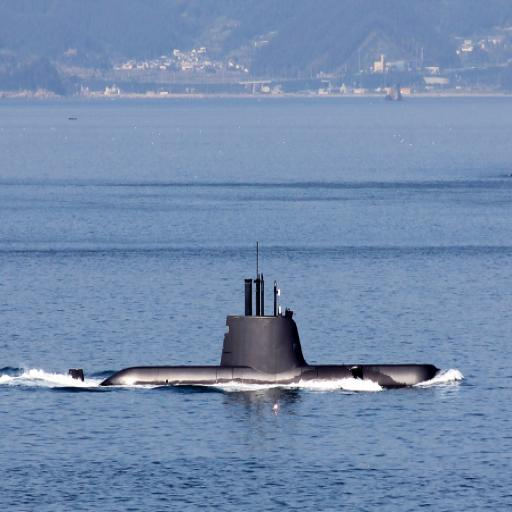submarine: (52, 316, 446, 391)
